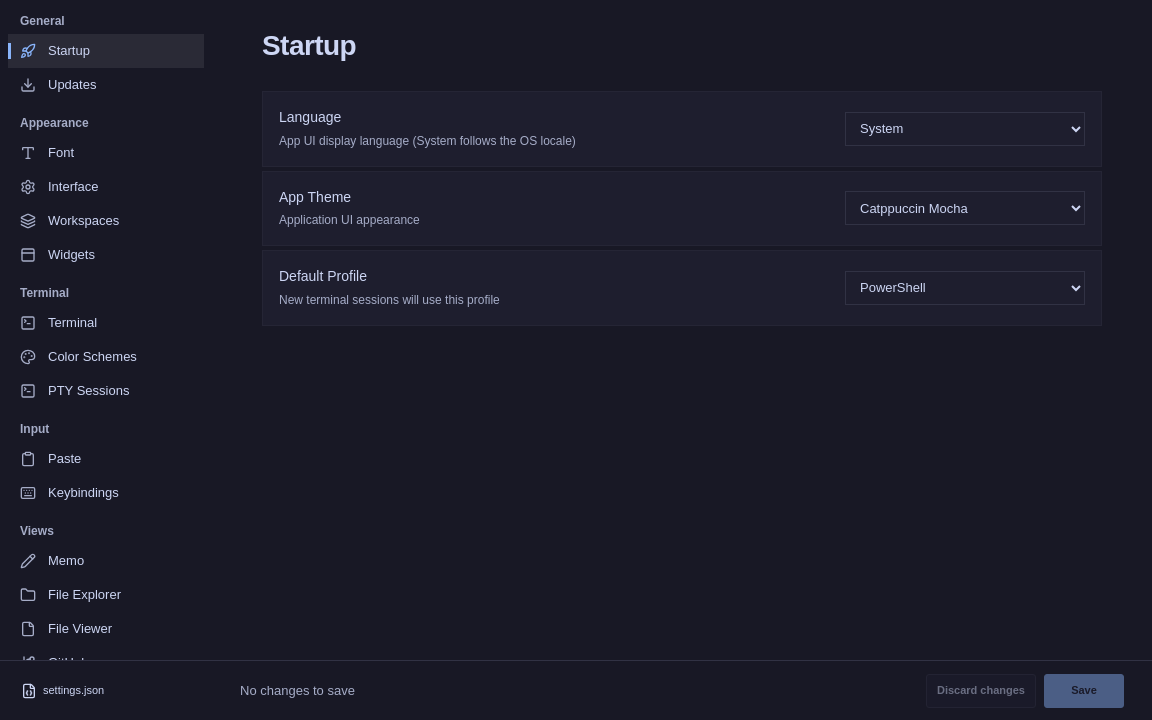
SettingsView › shows an explicit error for a viewer profile that no longer exists
Step 1. Click the button with test id "nav-fileExplorer" → (106, 595), box [8,578,204,612]
(page scrolled)
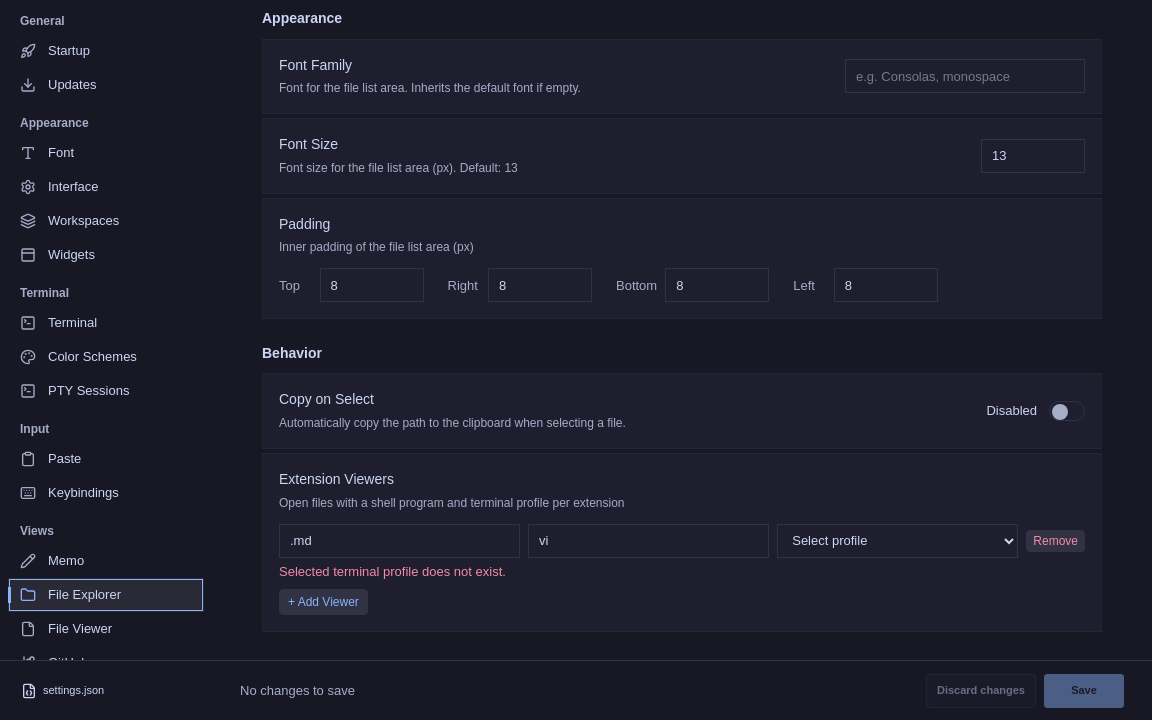
Check: the text with test id "fe-ext-viewer-profile-error-0" reads "Selected terminal profile does not exist.", box [279,564,506,579]
